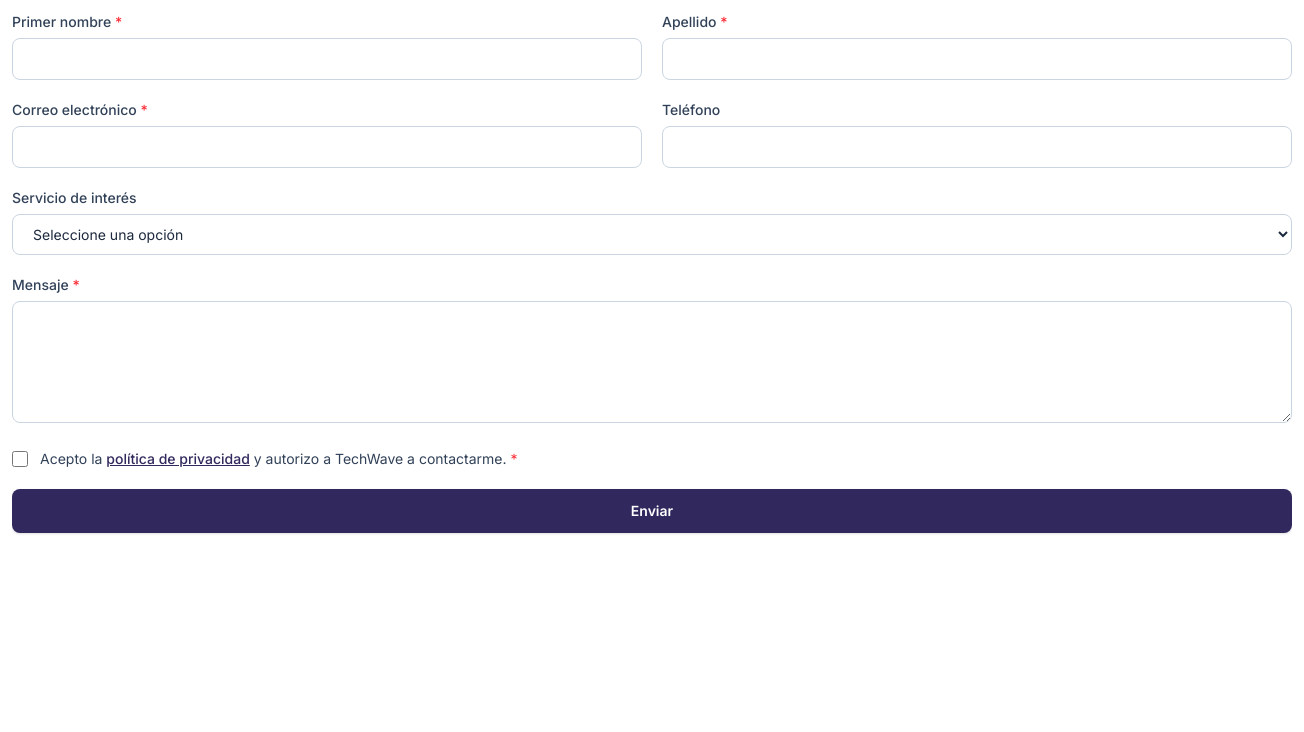
Test: ContactForm › muestra el mensaje de no configurado si falta la URL de Zoho
Step 1. Type "Ana" into the field labelled "Primer nombre" → (327, 59), box [12,38,642,80]
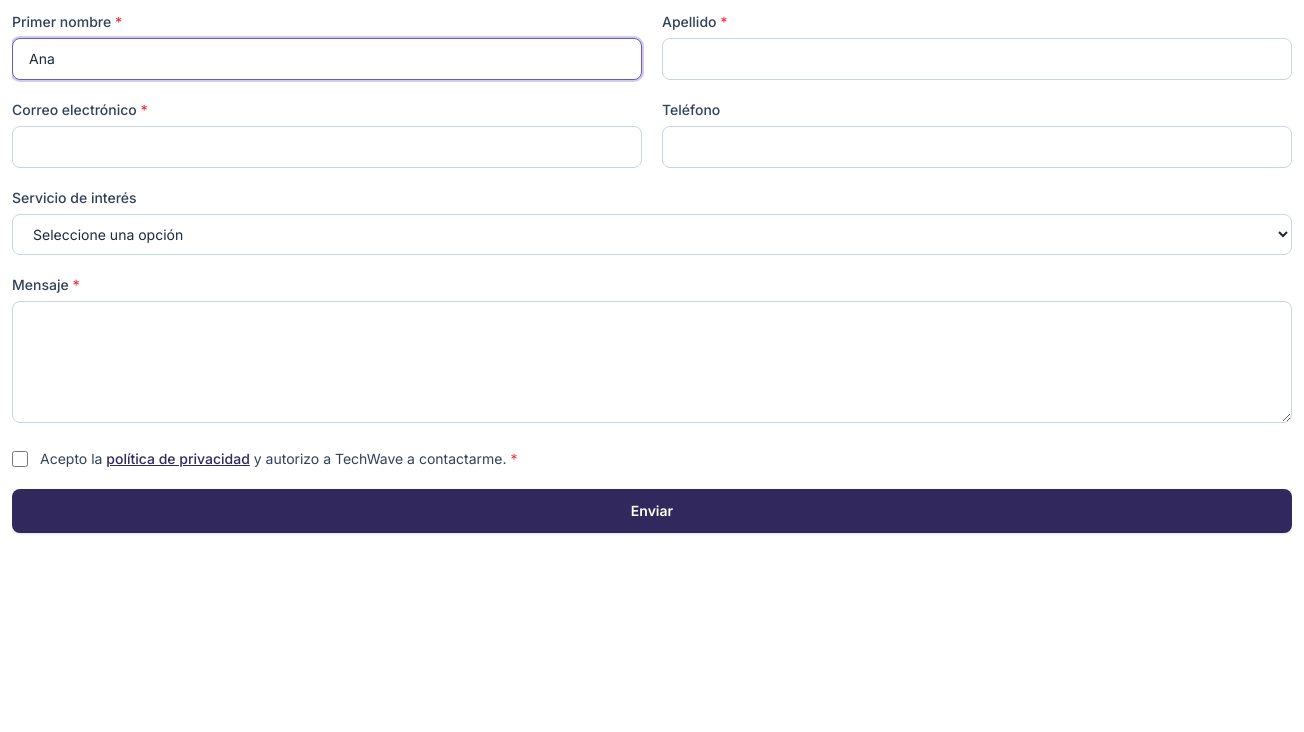
Step 2. Type "Rojas" into the field labelled "Apellido" → (977, 59), box [662,38,1292,80]
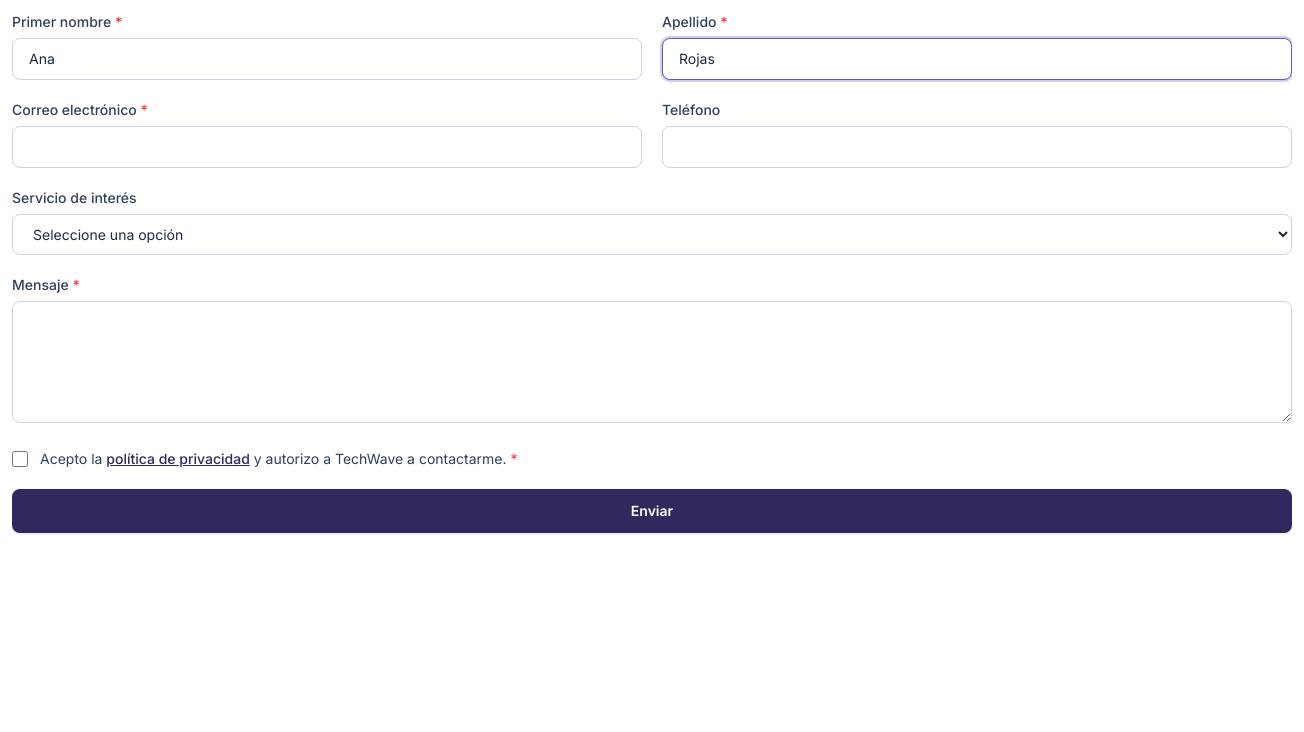
Step 3. Type "ana@correo.com" into the field labelled "Correo electrónico" → (327, 147), box [12,126,642,168]
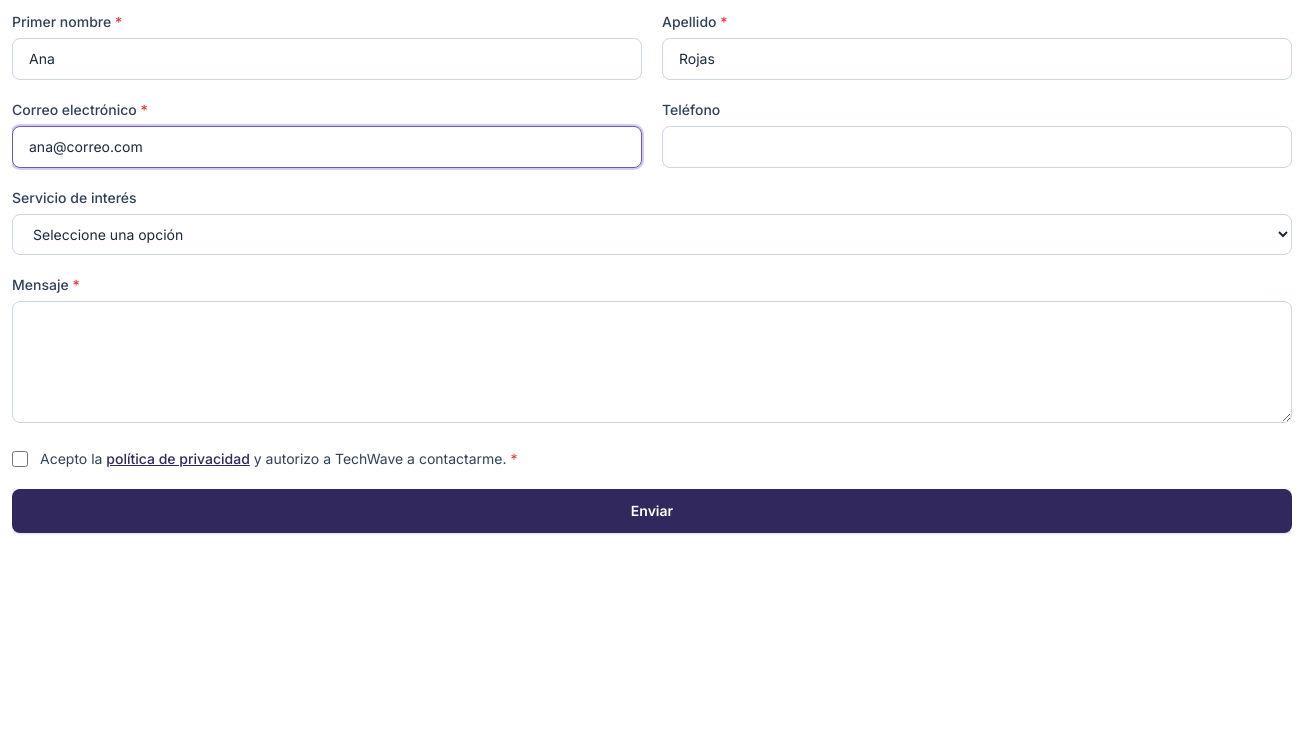
Step 4. Type "Hola, necesito una cotización" into the text box labelled "Mensaje" → (652, 362), box [12,301,1292,423]
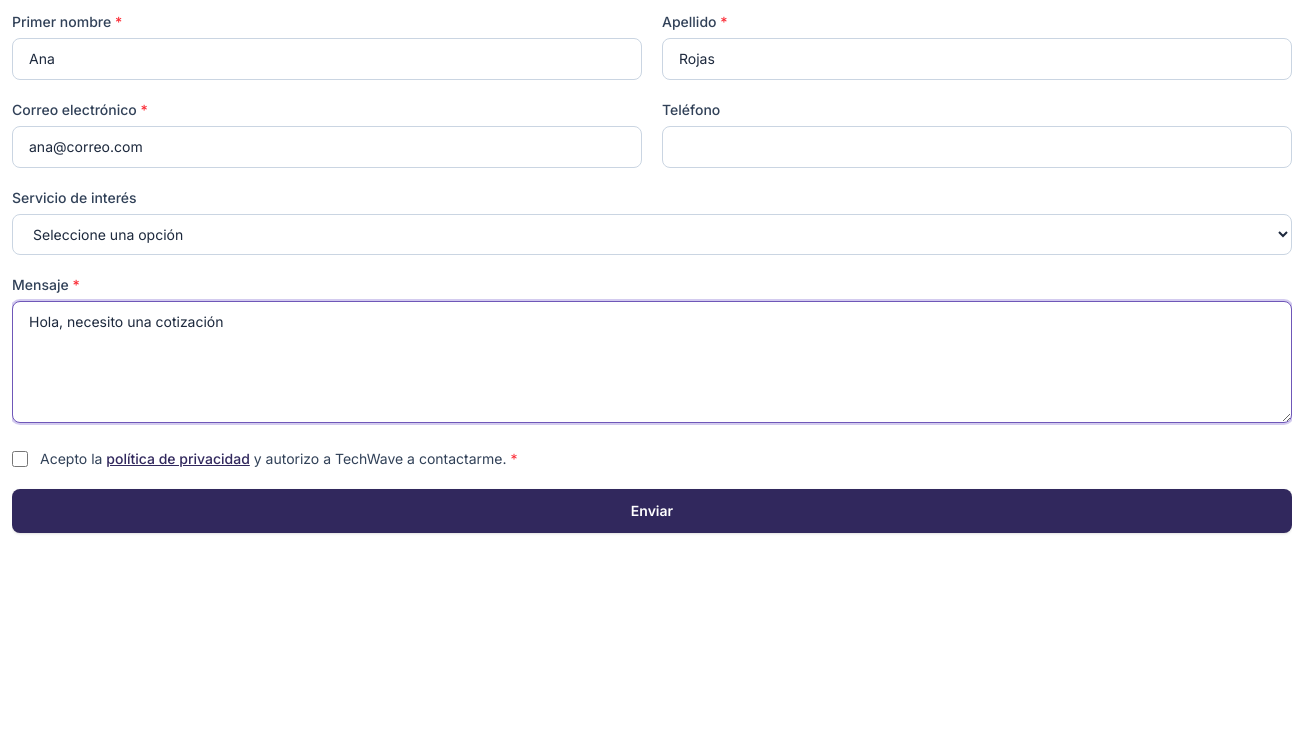
Step 5. Click the checkbox → (20, 459), box [12,451,28,467]
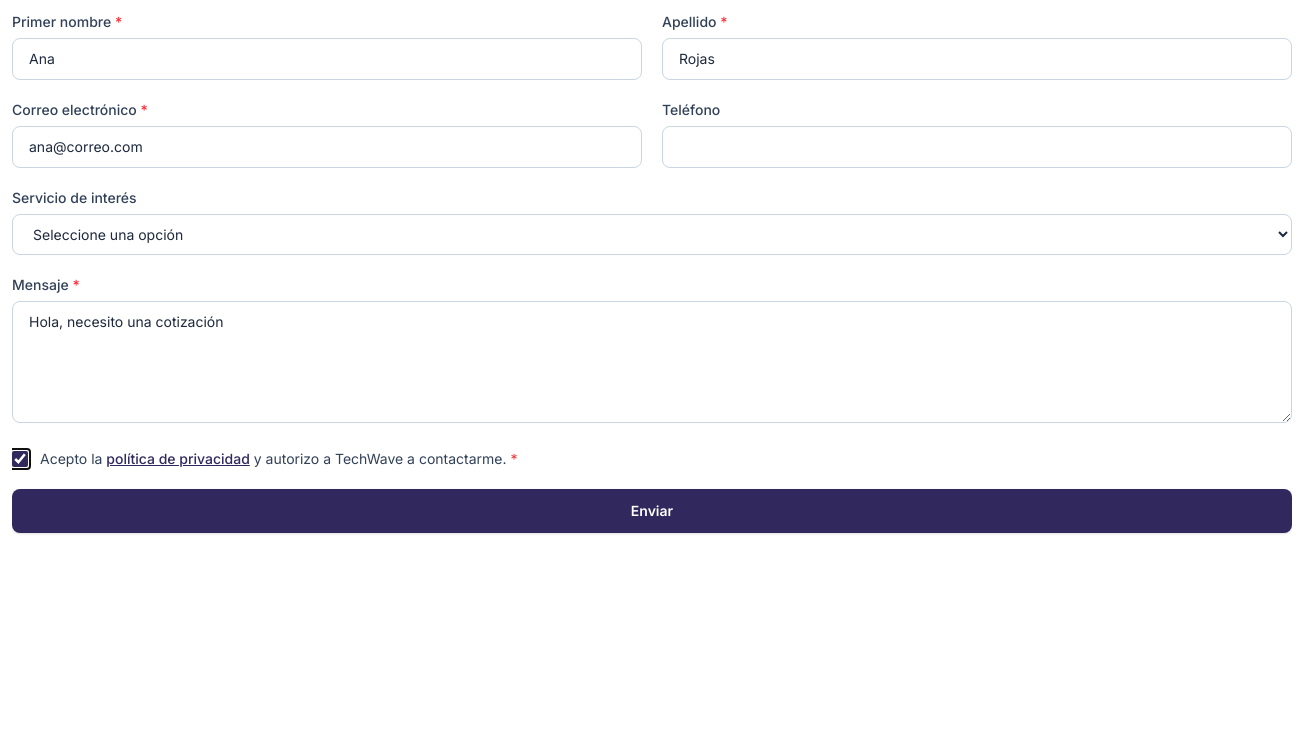
Step 6. Click the button "Enviar" → (652, 511), box [12,489,1292,533]
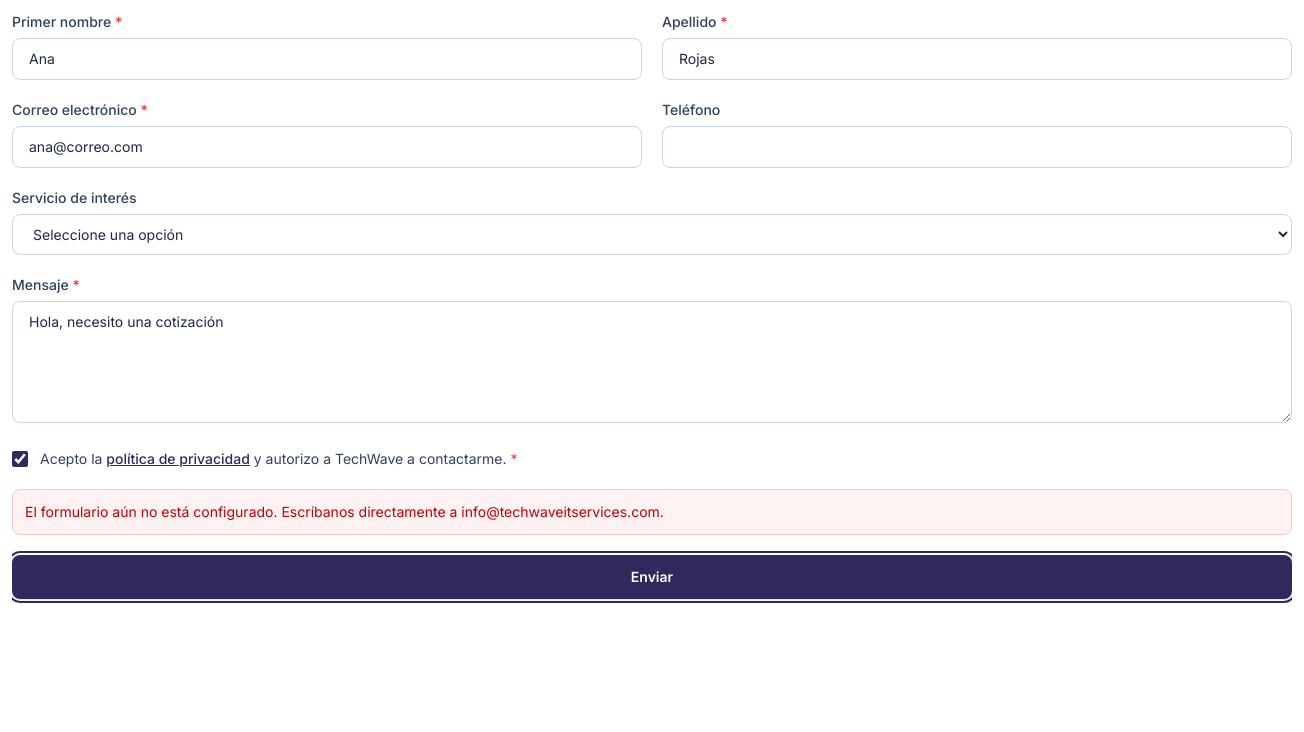
Now the message shows "El formulario aún no está configurado. Escríbanos directamente a info@techwaveitservices.com.", box [25,503,664,520]
